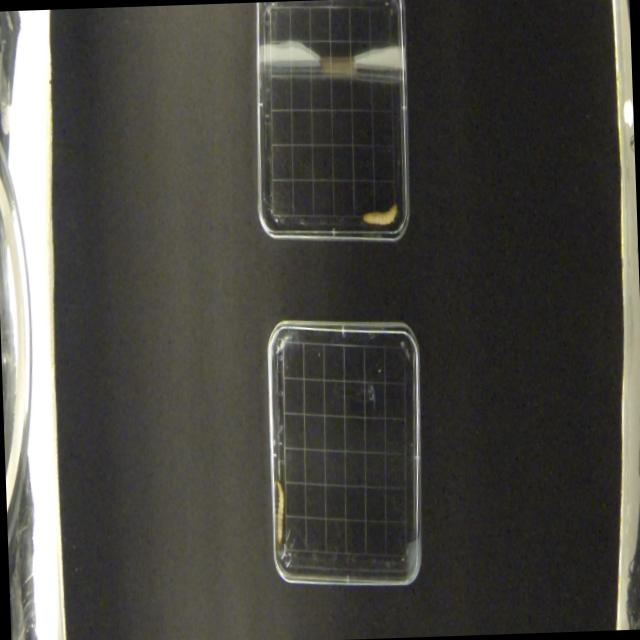larva: (362, 203, 398, 226), (274, 481, 286, 545)
